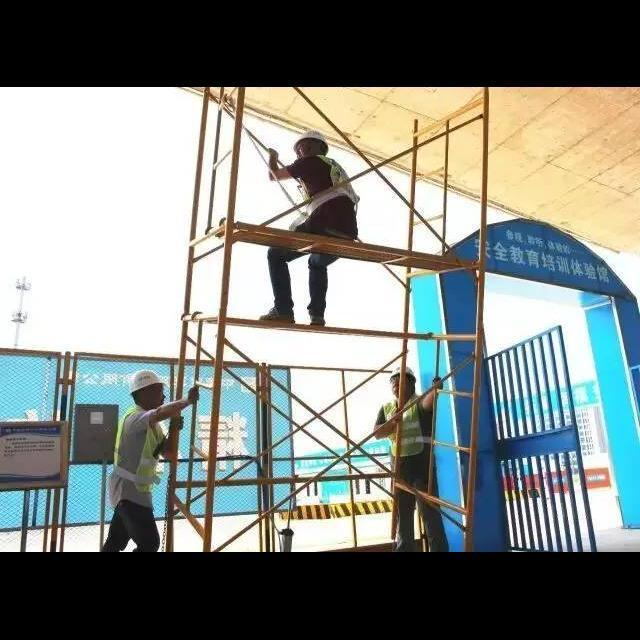helmet: (124, 366, 171, 399), (288, 122, 328, 152), (384, 358, 422, 382)
safety_vest: (108, 402, 194, 521), (279, 155, 379, 233), (371, 391, 438, 468)
